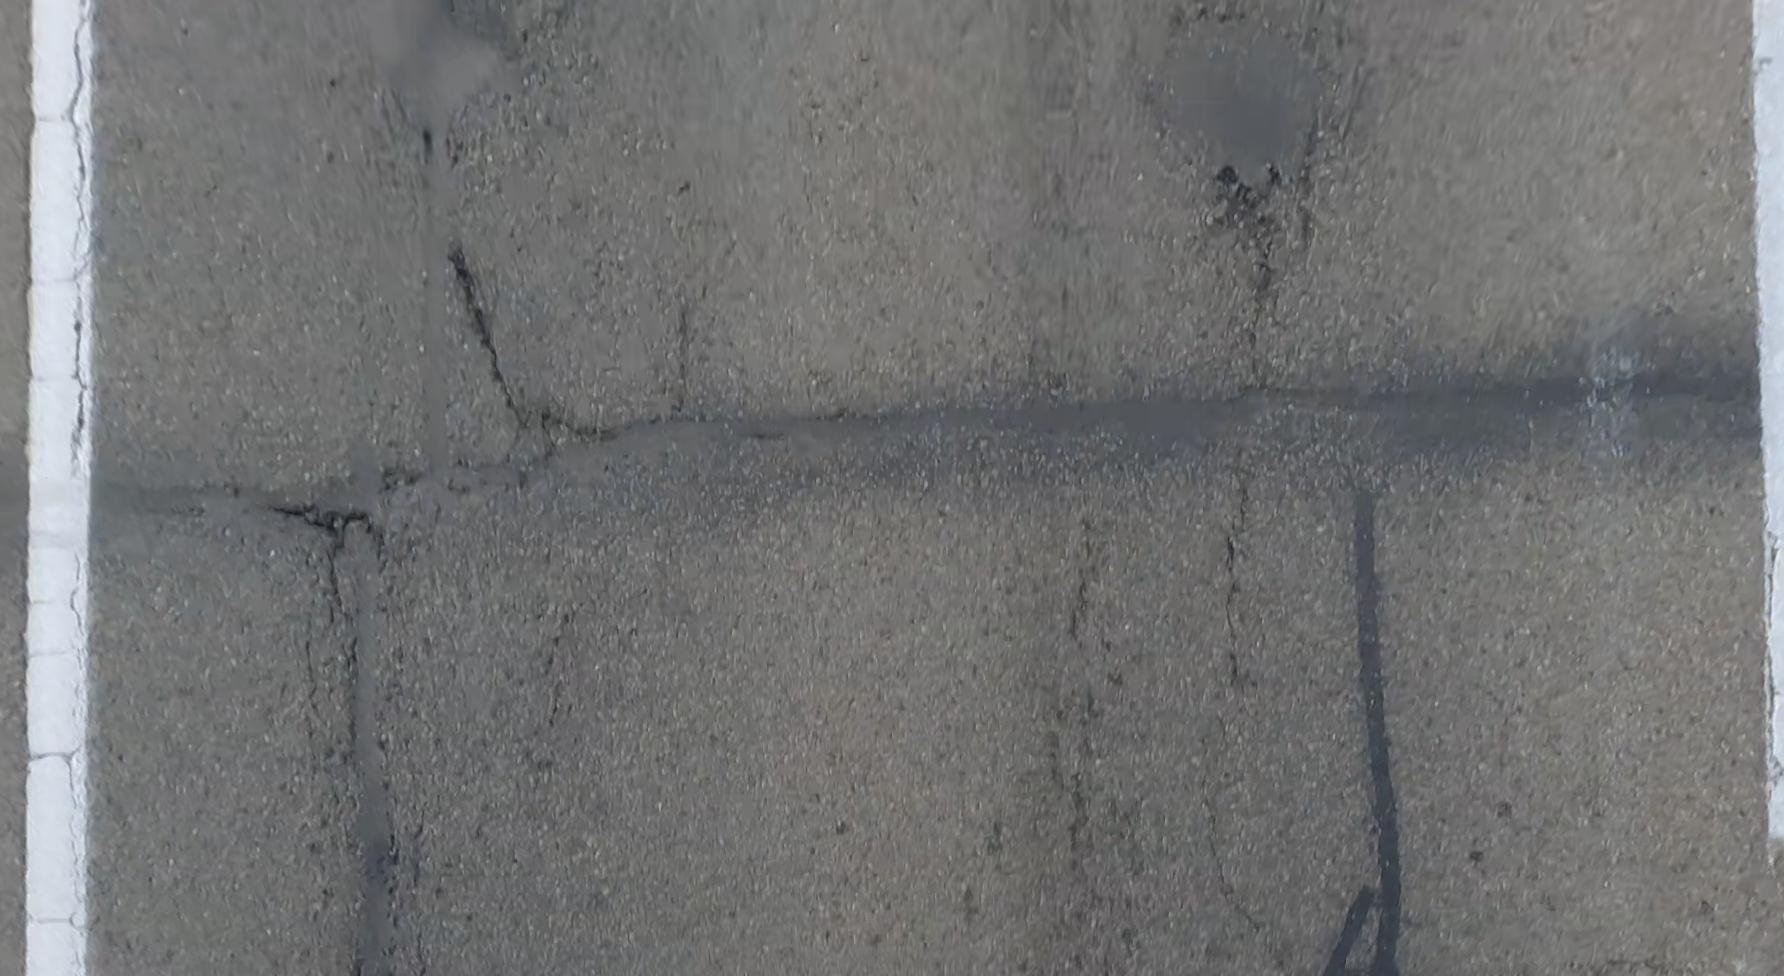pothole_patch_good: (1152, 18, 1319, 169)
